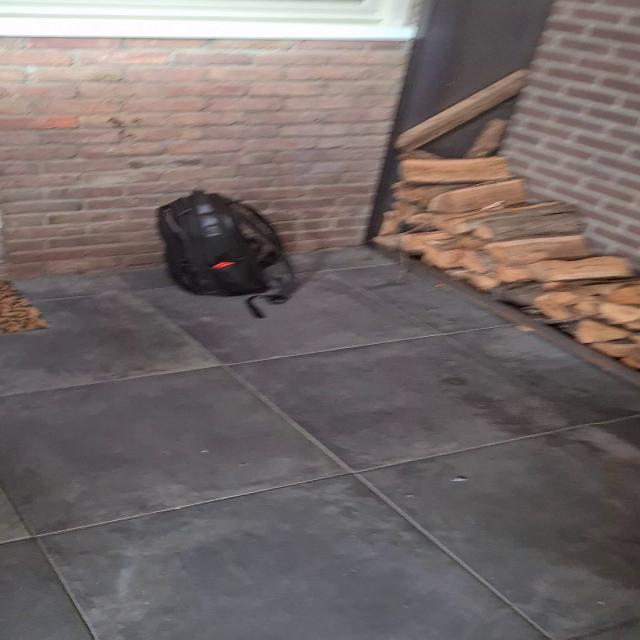backpack: (150, 185, 289, 301)
